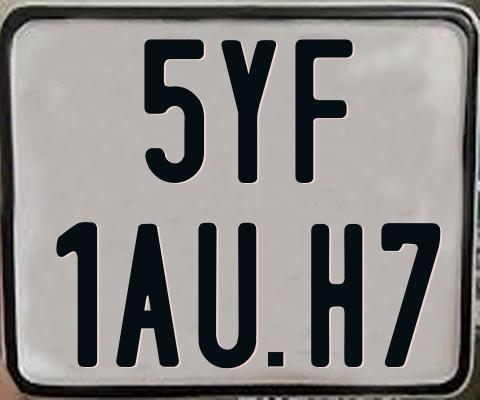1: (53, 221, 99, 369)
5: (144, 38, 205, 188)
7: (381, 221, 440, 367)
A: (116, 223, 183, 371)
F: (295, 36, 356, 183)
H: (310, 222, 366, 370)
U: (196, 221, 259, 369)
Y: (220, 40, 278, 185)
